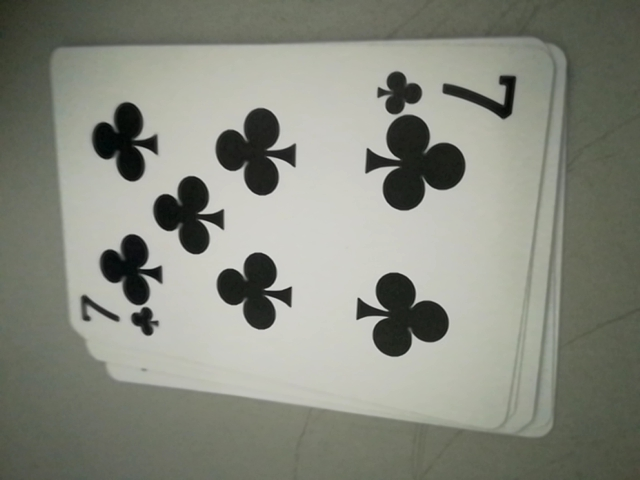mh 7: (371, 60, 522, 120), (73, 293, 163, 347)
